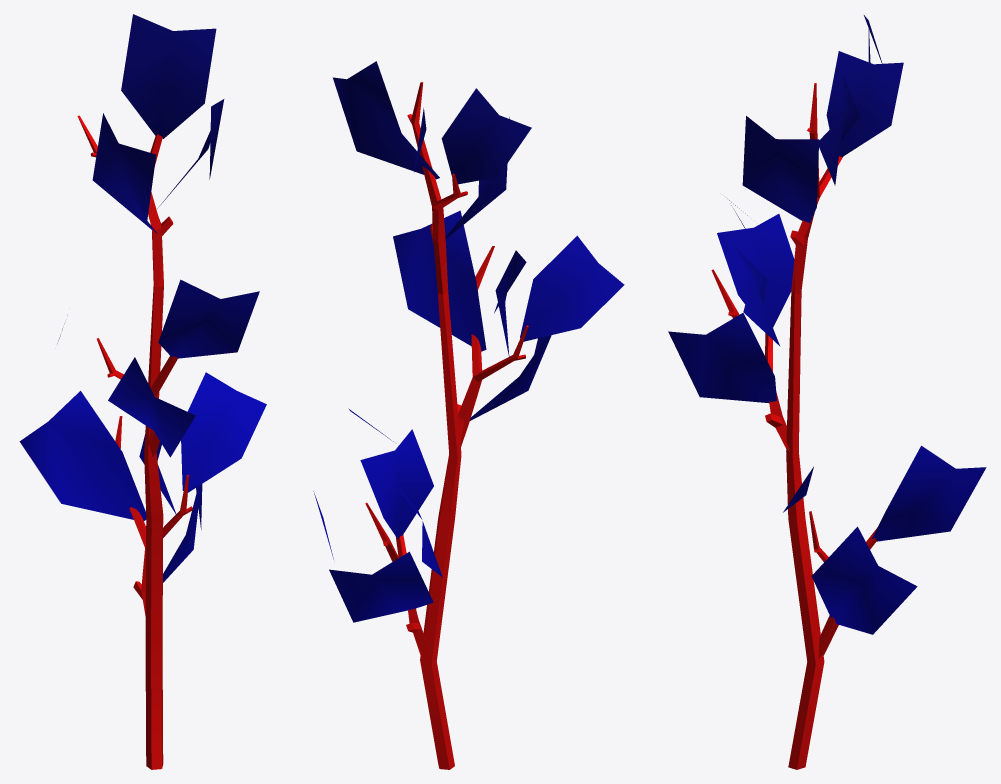
The model's file is SM_Tree_Dead_01.glb.
The picture shows the model from 3 angles, left to right: view 1: azimuth 30°, elevation 25°; view 2: azimuth 150°, elevation 25°; view 3: azimuth 270°, elevation 25°; orthographic projection.
Visible parts, largest first — view 1: SM_Tree_Dead_01; view 2: SM_Tree_Dead_01; view 3: SM_Tree_Dead_01.
Boxes of the visible parts, x1,y1,x2,y2 form: SM_Tree_Dead_01: [19, 14, 266, 769]; SM_Tree_Dead_01: [313, 61, 624, 769]; SM_Tree_Dead_01: [668, 15, 986, 769].
Bounding box in the file's own units: 1.25 × 3.5 × 1.42.
